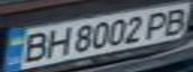0: (90, 19, 112, 49), (109, 16, 130, 47)
2: (121, 12, 148, 44)
8: (69, 21, 97, 53)
B: (12, 29, 54, 64), (157, 4, 193, 37)
H: (39, 25, 72, 58)
P: (139, 8, 175, 39)
